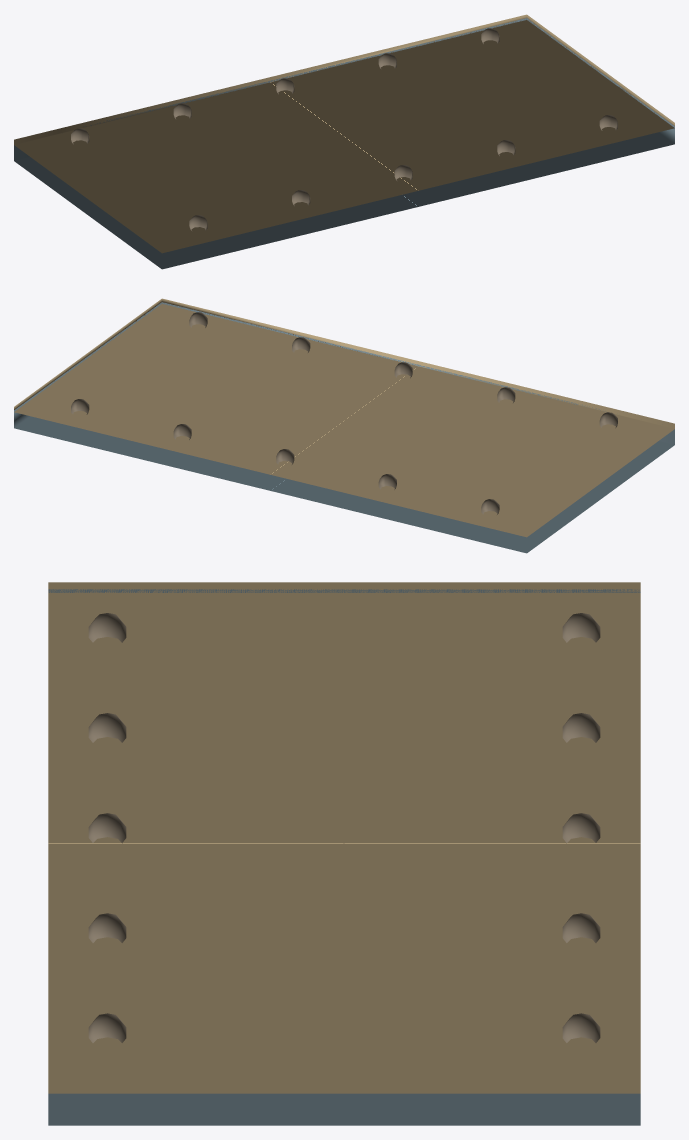
File: ground_plate.glb
The picture shows the model from 3 angles, top to bottom: view 1: azimuth 30°, elevation 25°; view 2: azimuth 150°, elevation 25°; view 3: azimuth 270°, elevation 25°; orthographic projection. The views are drawn at different scales.
Bounding box in the file's own units: 120 × 6.8 × 60.
